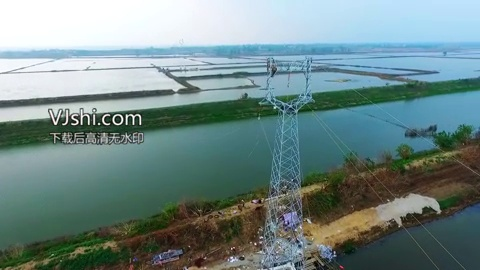tower_body: (254, 51, 320, 270)
tower_foot: (261, 227, 308, 268)
tower_head: (258, 55, 316, 112)
